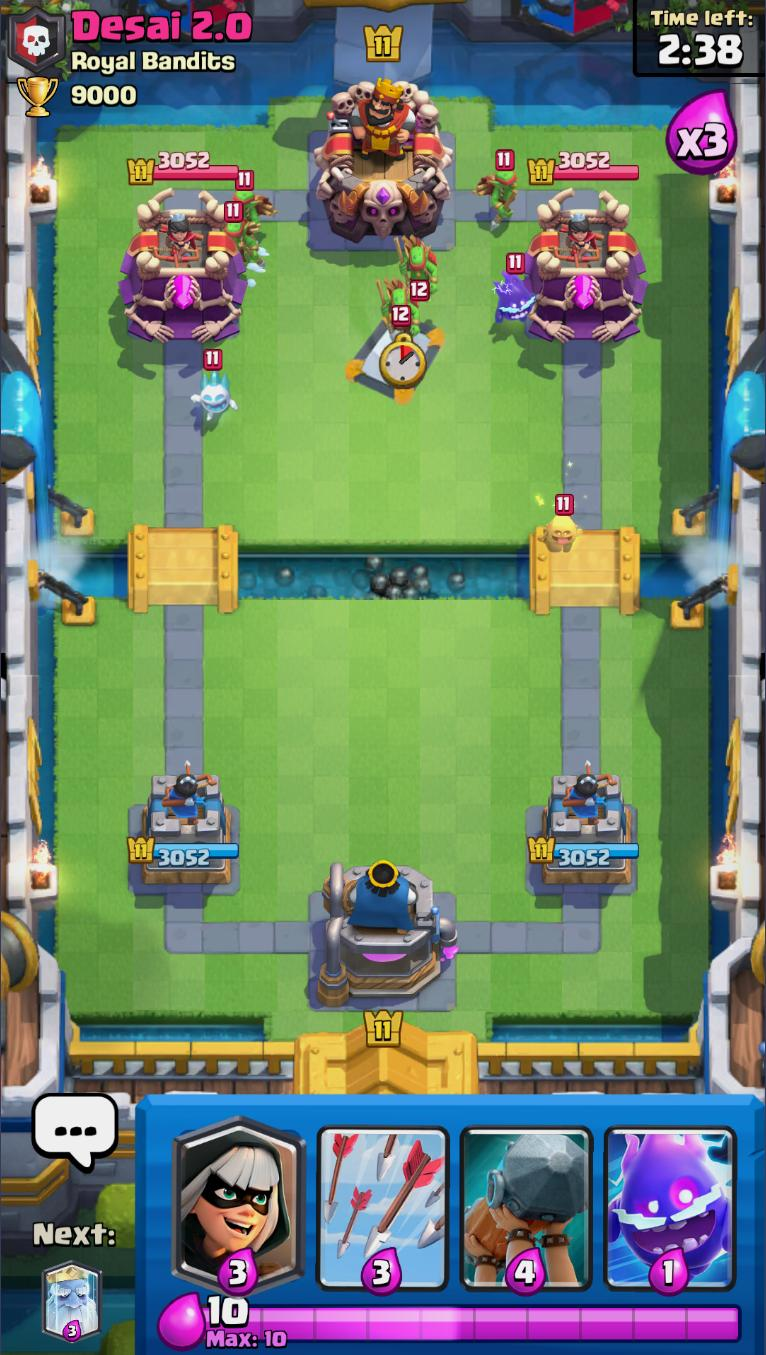ArrowDeck: (311, 1097, 454, 1292)
BanditDeck: (165, 1097, 314, 1294)
BattleRamDeck: (455, 1095, 598, 1296)
ElectroSpirit: (488, 251, 541, 333)
ElectroSpiritDeck: (598, 1098, 746, 1298)
Elixir: (204, 1290, 254, 1330)
EnemyTower: (120, 184, 251, 348), (518, 188, 650, 346)
HealSpirit: (539, 494, 585, 560)
IceSpirit: (191, 349, 236, 424)
KingTower: (309, 79, 459, 248)
Mirror: (350, 316, 446, 403)
MyKingTower: (310, 855, 463, 1018)
MyPrincessTower: (131, 761, 240, 893), (533, 771, 641, 893)
MyPrincessTowerHP: (526, 832, 640, 870), (124, 833, 241, 869)
PrincessTower: (152, 212, 207, 268), (552, 212, 603, 267)
RoyaleGhostNext: (41, 1256, 103, 1343)
SpearGoblin: (475, 149, 522, 230), (391, 239, 443, 299), (214, 201, 256, 275), (229, 170, 269, 232), (378, 284, 422, 338)
